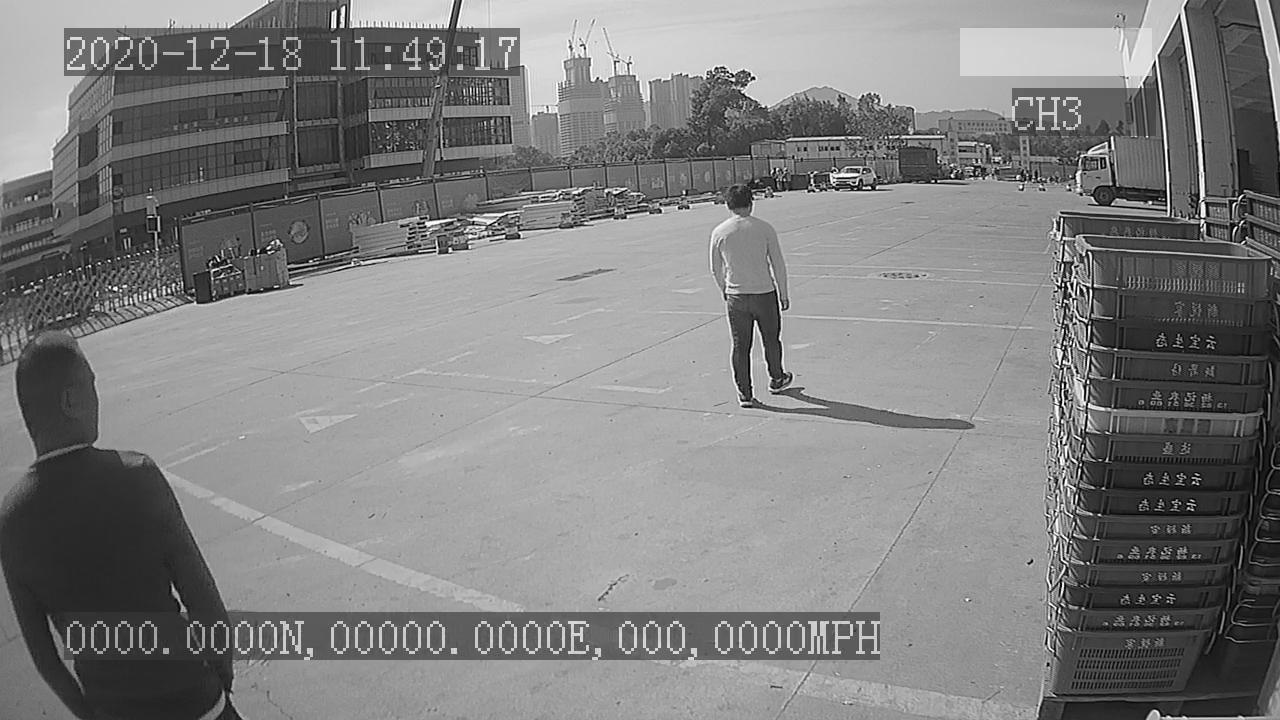person: (702, 183, 799, 411)
